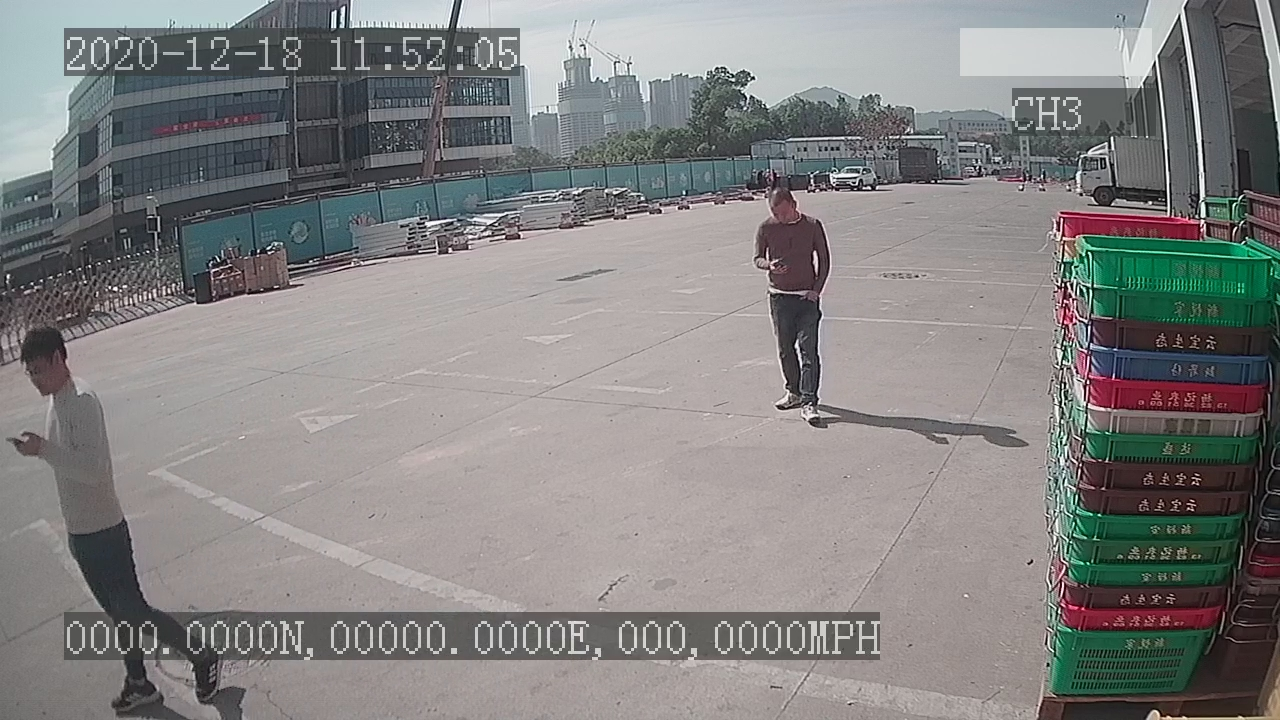person: (747, 183, 836, 433)
